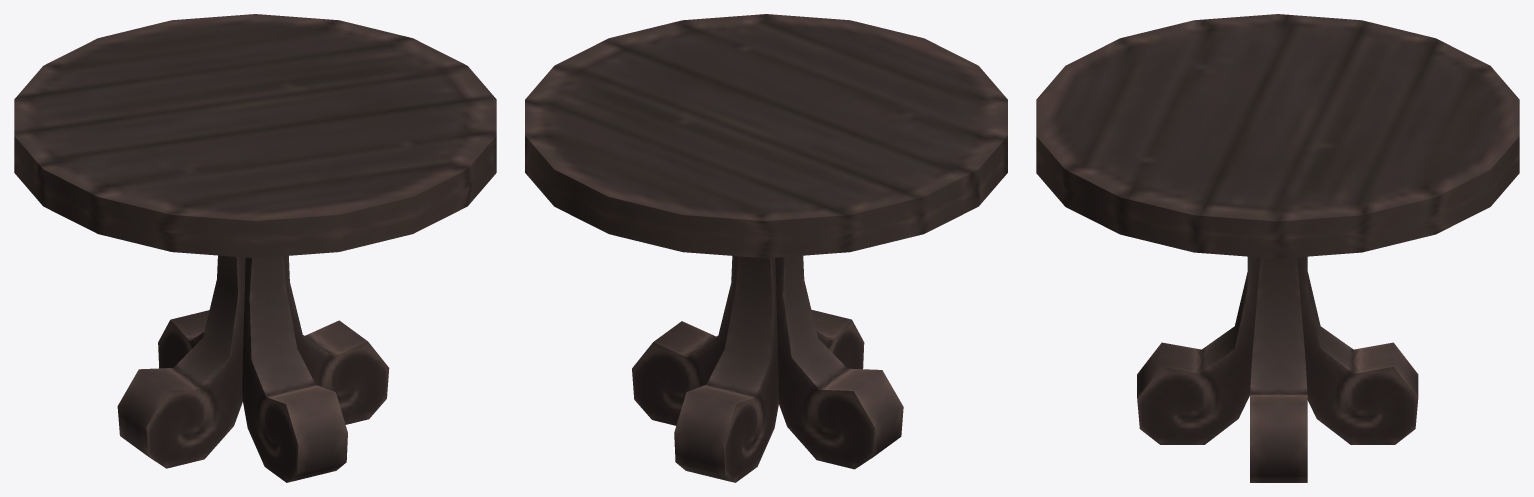
Rendered from table.FBX.
3 renders of one model, left to right at view 1: azimuth 30°, elevation 25°; view 2: azimuth 150°, elevation 25°; view 3: azimuth 270°, elevation 25°, orthographic.
Visible parts, largest first — view 1: table; view 2: table; view 3: table.
Boxes of the visible parts, x1,y1,x2,y2 form: table: (14, 14, 496, 482); table: (525, 14, 1007, 482); table: (1036, 14, 1519, 482).
Size of the model in its own units: 156 by 111 by 154.
